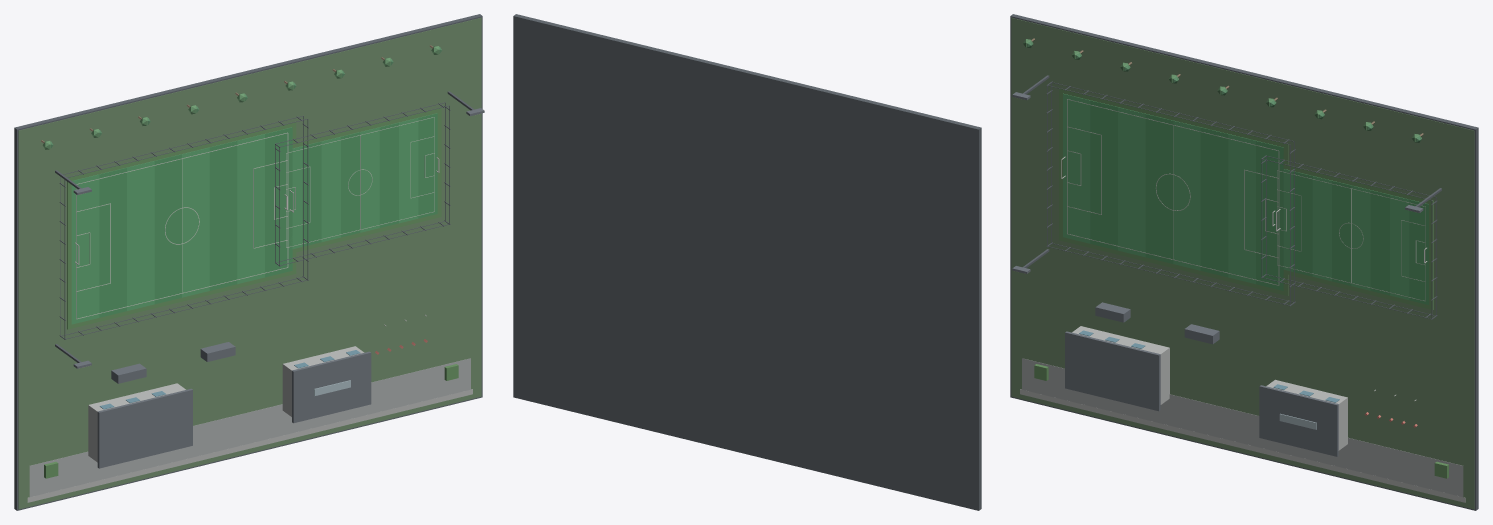
Rendered from training_ground_level_2.glb.
The picture shows the model from 3 angles, left to right: view 1: azimuth 30°, elevation 25°; view 2: azimuth 150°, elevation 25°; view 3: azimuth 330°, elevation 25°; orthographic projection.
Visible parts, largest first — view 1: base, grass3, grass2, roof, paving, dark, hedge, concrete, lines, tree; view 2: dark; view 3: base, grass3, grass2, roof, paving, dark, hedge, concrete, lines.
Boxes of the visible parts, x1=… form: base: x1=18, y1=17, x2=481, y2=509; grass3: x1=99, y1=113, x2=437, y2=317; grass2: x1=71, y1=118, x2=418, y2=324; roof: x1=73, y1=108, x2=484, y2=468; paving: x1=29, y1=358, x2=470, y2=496; dark: x1=14, y1=14, x2=482, y2=510; hedge: x1=44, y1=108, x2=458, y2=478; concrete: x1=27, y1=346, x2=472, y2=502; lines: x1=76, y1=117, x2=434, y2=319; tree: x1=42, y1=46, x2=439, y2=149; dark: x1=513, y1=14, x2=981, y2=510; base: x1=1011, y1=17, x2=1474, y2=509; grass3: x1=1090, y1=100, x2=1428, y2=304; grass2: x1=1063, y1=94, x2=1409, y2=299; roof: x1=1012, y1=92, x2=1423, y2=456; paving: x1=1022, y1=358, x2=1463, y2=496; dark: x1=1010, y1=14, x2=1478, y2=510; hedge: x1=1034, y1=88, x2=1448, y2=478; concrete: x1=1020, y1=326, x2=1465, y2=502; lines: x1=1067, y1=99, x2=1425, y2=301.
Size of the model in its own units: 115 by 90 by 13.62.
